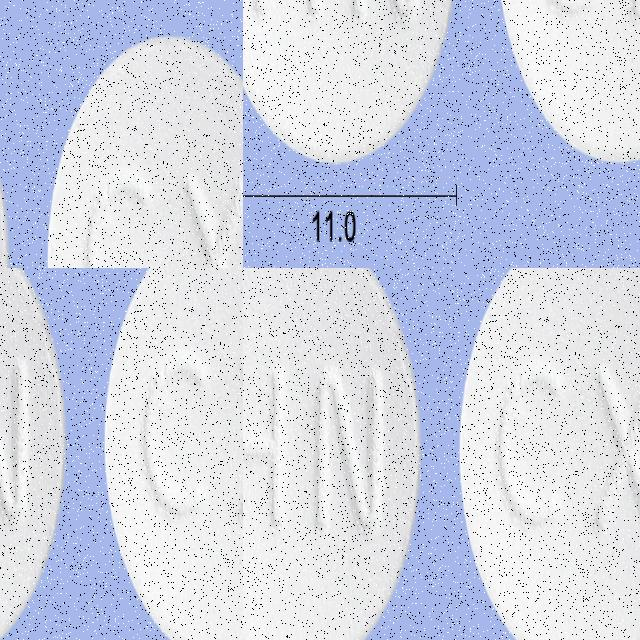Ciflonew: (243, 0, 464, 174), (490, 0, 640, 175)
Cipron: (455, 268, 640, 640), (243, 268, 424, 640)
Claton: (0, 493, 153, 640)
